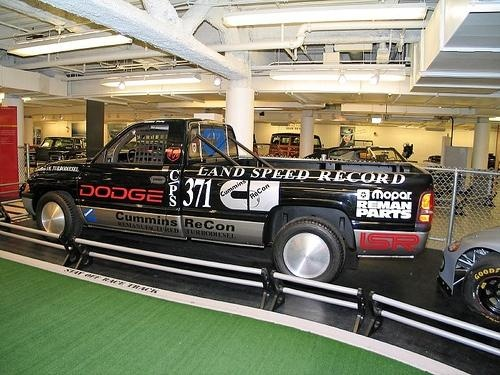car: (20, 115, 433, 288)
